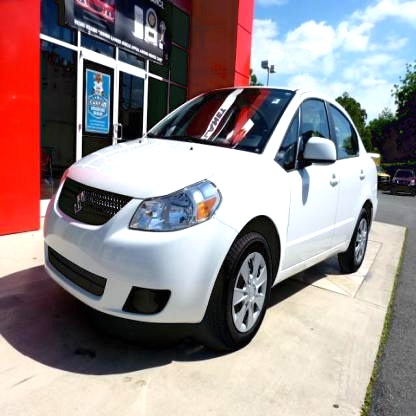Vehicle: (43, 86, 379, 356)
